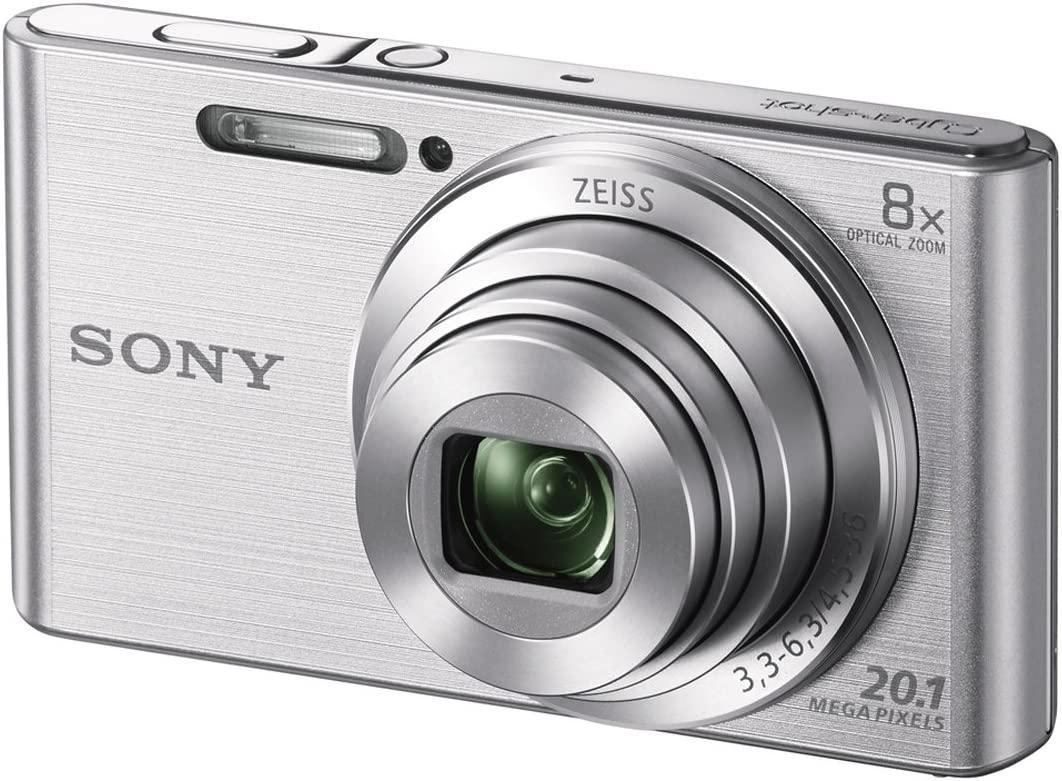degital-camera: (0, 4, 1062, 781)
